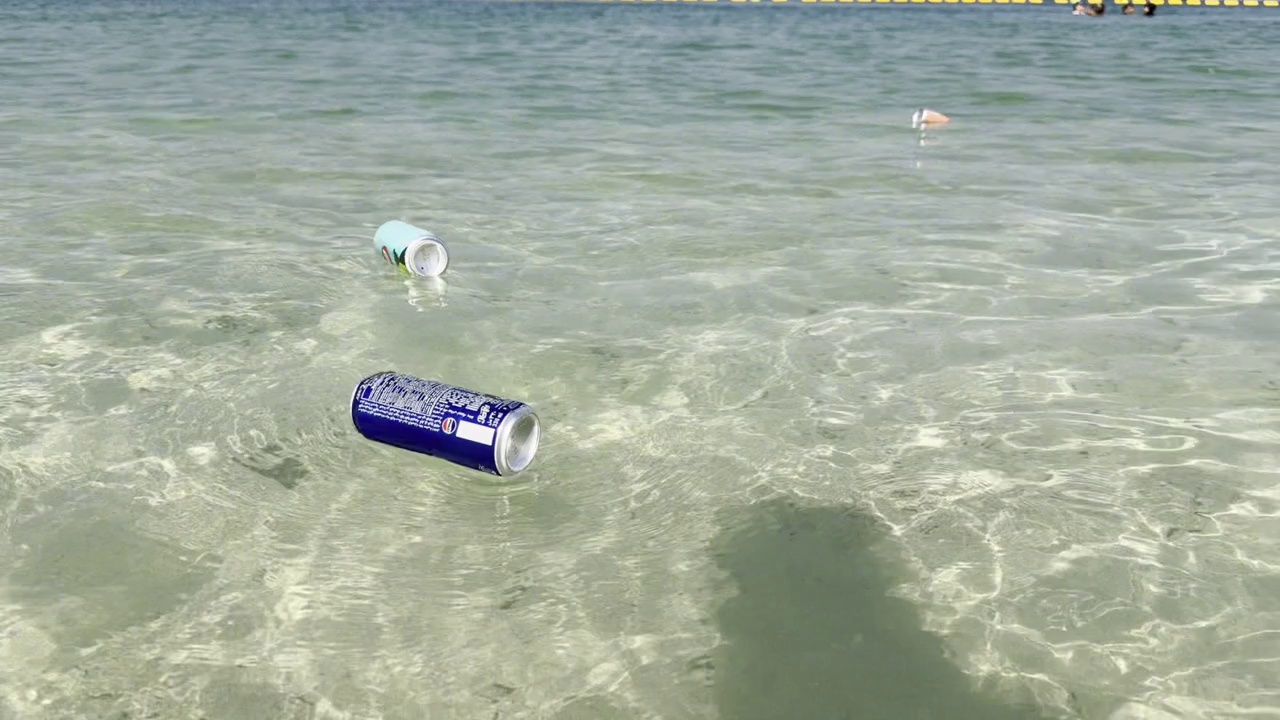debris: (350, 368, 548, 491), (368, 214, 456, 292), (910, 105, 954, 130)
